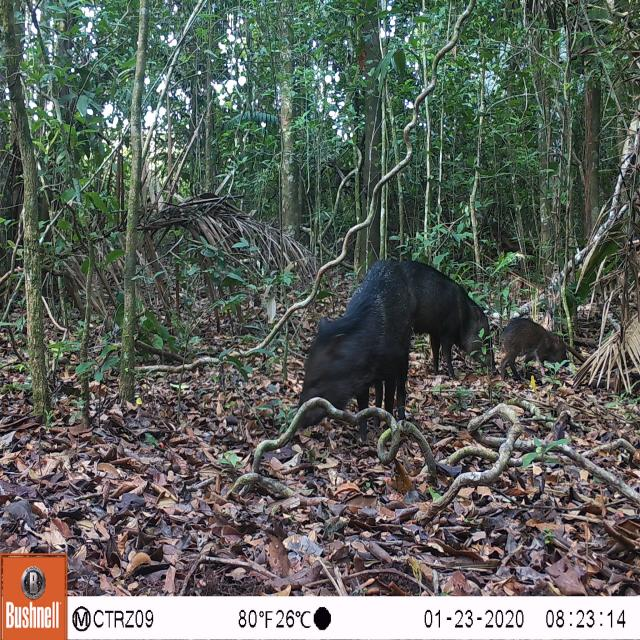Collared Peccary: (286, 243, 412, 432), (402, 231, 494, 386), (497, 310, 577, 380)
